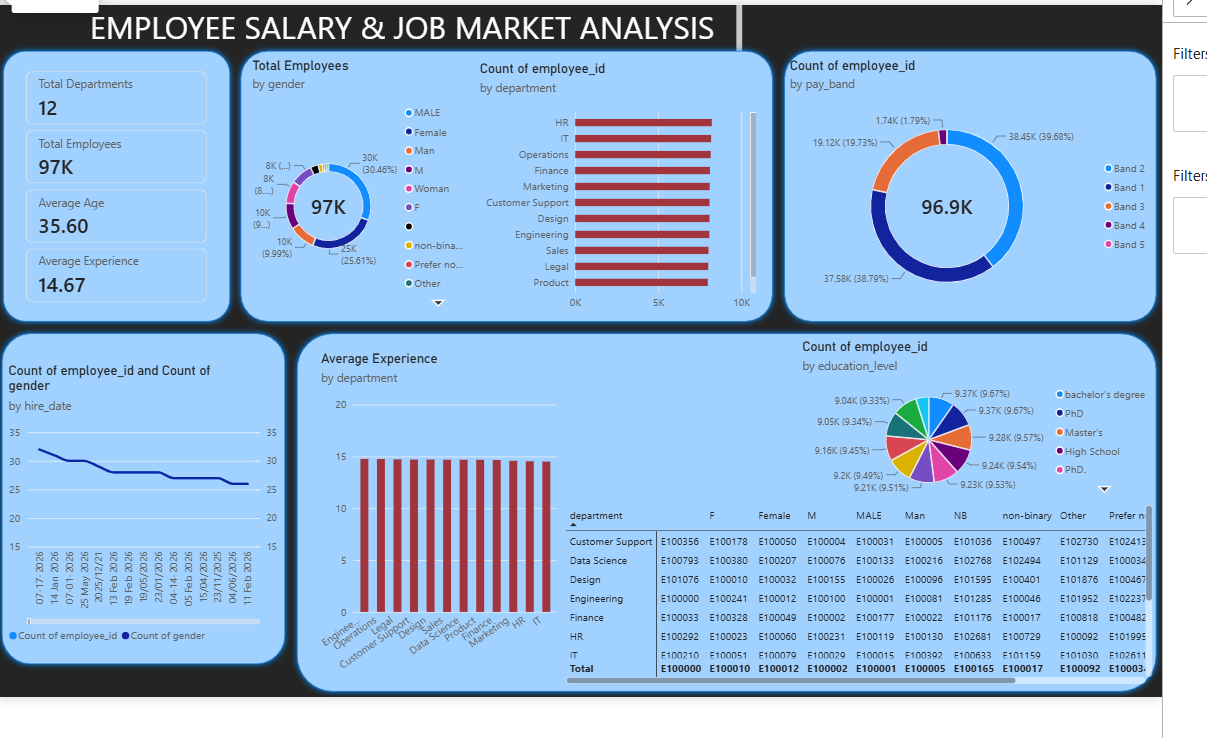

This screenshot's page, from the dashboard's own definition file:
{"tool":"powerbi","page":{"name":"Page 1","canvas":[1600,950],"ordinal":0},"visuals":[{"type":"textbox","box":[82.3,0,941.7,72],"z":0},{"type":"shape","box":[1.7,54.9,327.6,387.7],"z":1000},{"type":"cardVisual","fields":{"Data":["cleaned_dataset_employee_pay_equity_messy.Total Departments","cleaned_dataset_employee_pay_equity_messy.Total Employees","cleaned_dataset_employee_pay_equity_messy.Average Age","cleaned_dataset_employee_pay_equity_messy.Average Experience"]},"box":[41.2,90.9,248.7,317.3],"z":2000},{"type":"shape","box":[327.6,54.9,746.1,387.7],"z":3000},{"type":"shape","box":[404.8,442.5,1195.5,507.7],"z":4000},{"type":"shape","box":[0,442.5,404.8,470],"z":5000},{"type":"shape","box":[1073.8,54.9,526.6,387.7],"z":6000},{"type":"donutChart","fields":{"Category":["cleaned_dataset_employee_pay_equity_messy.gender"],"Y":["cleaned_dataset_employee_pay_equity_messy.Total Employees"]},"box":[351.6,72,300.2,344.8],"z":6002},{"type":"clusteredBarChart","fields":{"Category":["cleaned_dataset_employee_pay_equity_messy.department"],"Y":["CountNonNull(cleaned_dataset_employee_pay_equity_messy.employee_id)"]},"box":[663.8,77.2,379.1,344.8],"z":6003},{"type":"donutChart","fields":{"Category":["cleaned_dataset_employee_pay_equity_messy.pay_band"],"Y":["CountNonNull(cleaned_dataset_employee_pay_equity_messy.employee_id)"]},"box":[1089.2,72,497.4,344.8],"z":6004},{"type":"clusteredColumnChart","fields":{"Category":["cleaned_dataset_employee_pay_equity_messy.department"],"Y":["cleaned_dataset_employee_pay_equity_messy.Average Experience"]},"box":[446,475.1,324.2,456.3],"z":6005},{"type":"lineChart","fields":{"Category":["cleaned_dataset_employee_pay_equity_messy.hire_date"],"Y":["CountNonNull(cleaned_dataset_employee_pay_equity_messy.employee_id)"],"Y2":["CountNonNull(cleaned_dataset_employee_pay_equity_messy.gender)"]},"box":[17.2,490.6,370.5,389.4],"z":6006},{"type":"pieChart","fields":{"Category":["cleaned_dataset_employee_pay_equity_messy.education_level"],"Y":["CountNonNull(cleaned_dataset_employee_pay_equity_messy.employee_id)"]},"box":[1106.4,458,480.3,214.4],"z":6007},{"type":"pivotTable","fields":{"Columns":["cleaned_dataset_employee_pay_equity_messy.gender"],"Rows":["cleaned_dataset_employee_pay_equity_messy.department"],"Values":["Min(cleaned_dataset_employee_pay_equity_messy.employee_id)"]},"box":[782.2,686.1,804.5,245.3],"z":6008}]}

Visuals, with their boxes in screenshot pixels (x1, y1, x2, y2):
textbox: box=[30, 0, 730, 54]
shape: box=[0, 41, 214, 329]
cardVisual - cleaned_dataset_employee_pay_equity_messy.Total Departments x cleaned_dataset_employee_pay_equity_messy.Total Employees: box=[0, 68, 184, 304]
shape: box=[212, 41, 767, 329]
shape: box=[270, 329, 1159, 707]
shape: box=[0, 329, 270, 679]
shape: box=[767, 41, 1159, 329]
donutChart - cleaned_dataset_employee_pay_equity_messy.gender x cleaned_dataset_employee_pay_equity_messy.Total Employees: box=[230, 54, 453, 310]
clusteredBarChart - cleaned_dataset_employee_pay_equity_messy.department x CountNonNull(cleaned_dataset_employee_pay_equity_messy.employee_id): box=[462, 57, 744, 314]
donutChart - cleaned_dataset_employee_pay_equity_messy.pay_band x CountNonNull(cleaned_dataset_employee_pay_equity_messy.employee_id): box=[779, 54, 1149, 310]
clusteredColumnChart - cleaned_dataset_employee_pay_equity_messy.department x cleaned_dataset_employee_pay_equity_messy.Average Experience: box=[300, 353, 542, 693]
lineChart - cleaned_dataset_employee_pay_equity_messy.hire_date x CountNonNull(cleaned_dataset_employee_pay_equity_messy.employee_id): box=[0, 365, 257, 655]
pieChart - cleaned_dataset_employee_pay_equity_messy.education_level x CountNonNull(cleaned_dataset_employee_pay_equity_messy.employee_id): box=[792, 341, 1149, 500]
pivotTable - cleaned_dataset_employee_pay_equity_messy.gender x cleaned_dataset_employee_pay_equity_messy.department: box=[550, 510, 1149, 693]
